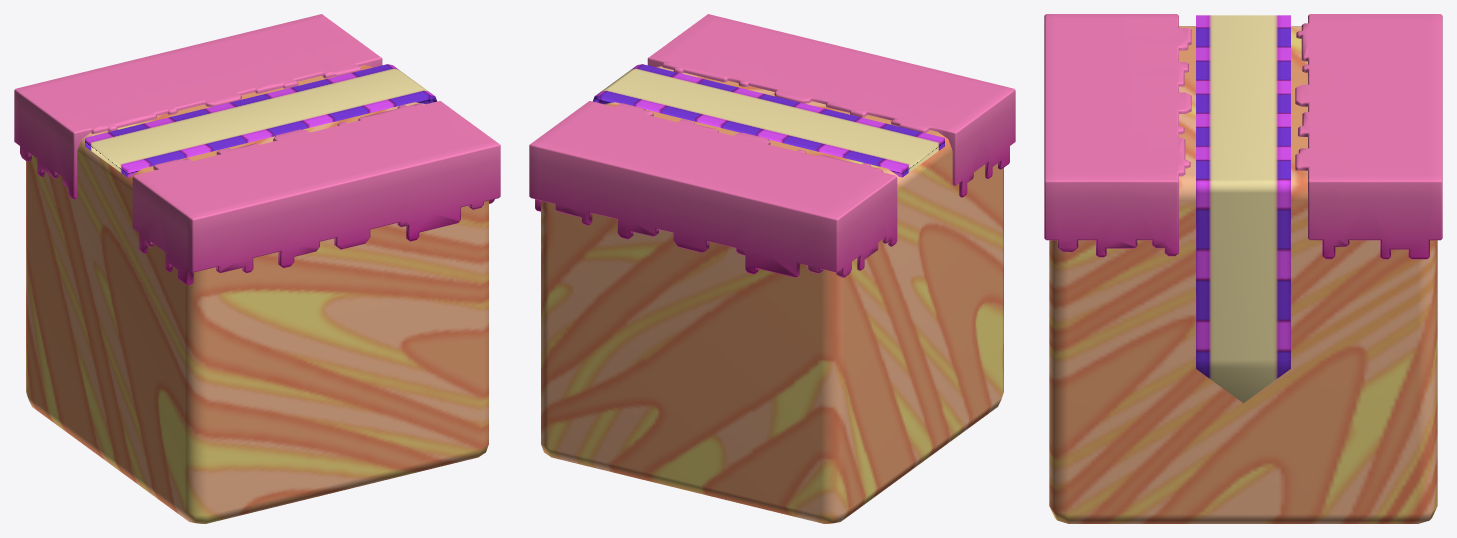
The model's file is ScaffoldL_R.fbx.
3 views of the same model, side by side, from view 1: azimuth 30°, elevation 25°; view 2: azimuth 150°, elevation 25°; view 3: azimuth 270°, elevation 25° (orthographic). The views are drawn at different scales.
Visible parts, largest first — view 1: asibaL_R1; view 2: asibaL_R1; view 3: asibaL_R1.
Part boxes in pixels (x1=…): asibaL_R1: x1=14, y1=14, x2=500, y2=523; asibaL_R1: x1=529, y1=14, x2=1015, y2=523; asibaL_R1: x1=1044, y1=14, x2=1442, y2=523.
Bounding box in the file's own units: 1.04 × 1.03 × 1.
Materials: 1 (1 with a texture image).
